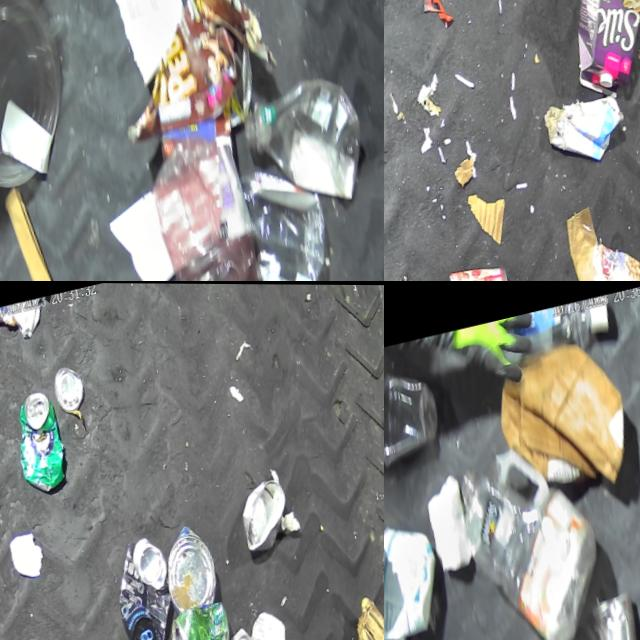can: (105, 530, 196, 640), (4, 385, 81, 496), (158, 519, 233, 612), (234, 471, 302, 552), (166, 597, 242, 640), (579, 230, 640, 281), (591, 581, 640, 640), (447, 255, 536, 281), (49, 362, 92, 413)
non_white_jug: (437, 430, 633, 640), (536, 0, 640, 107)
